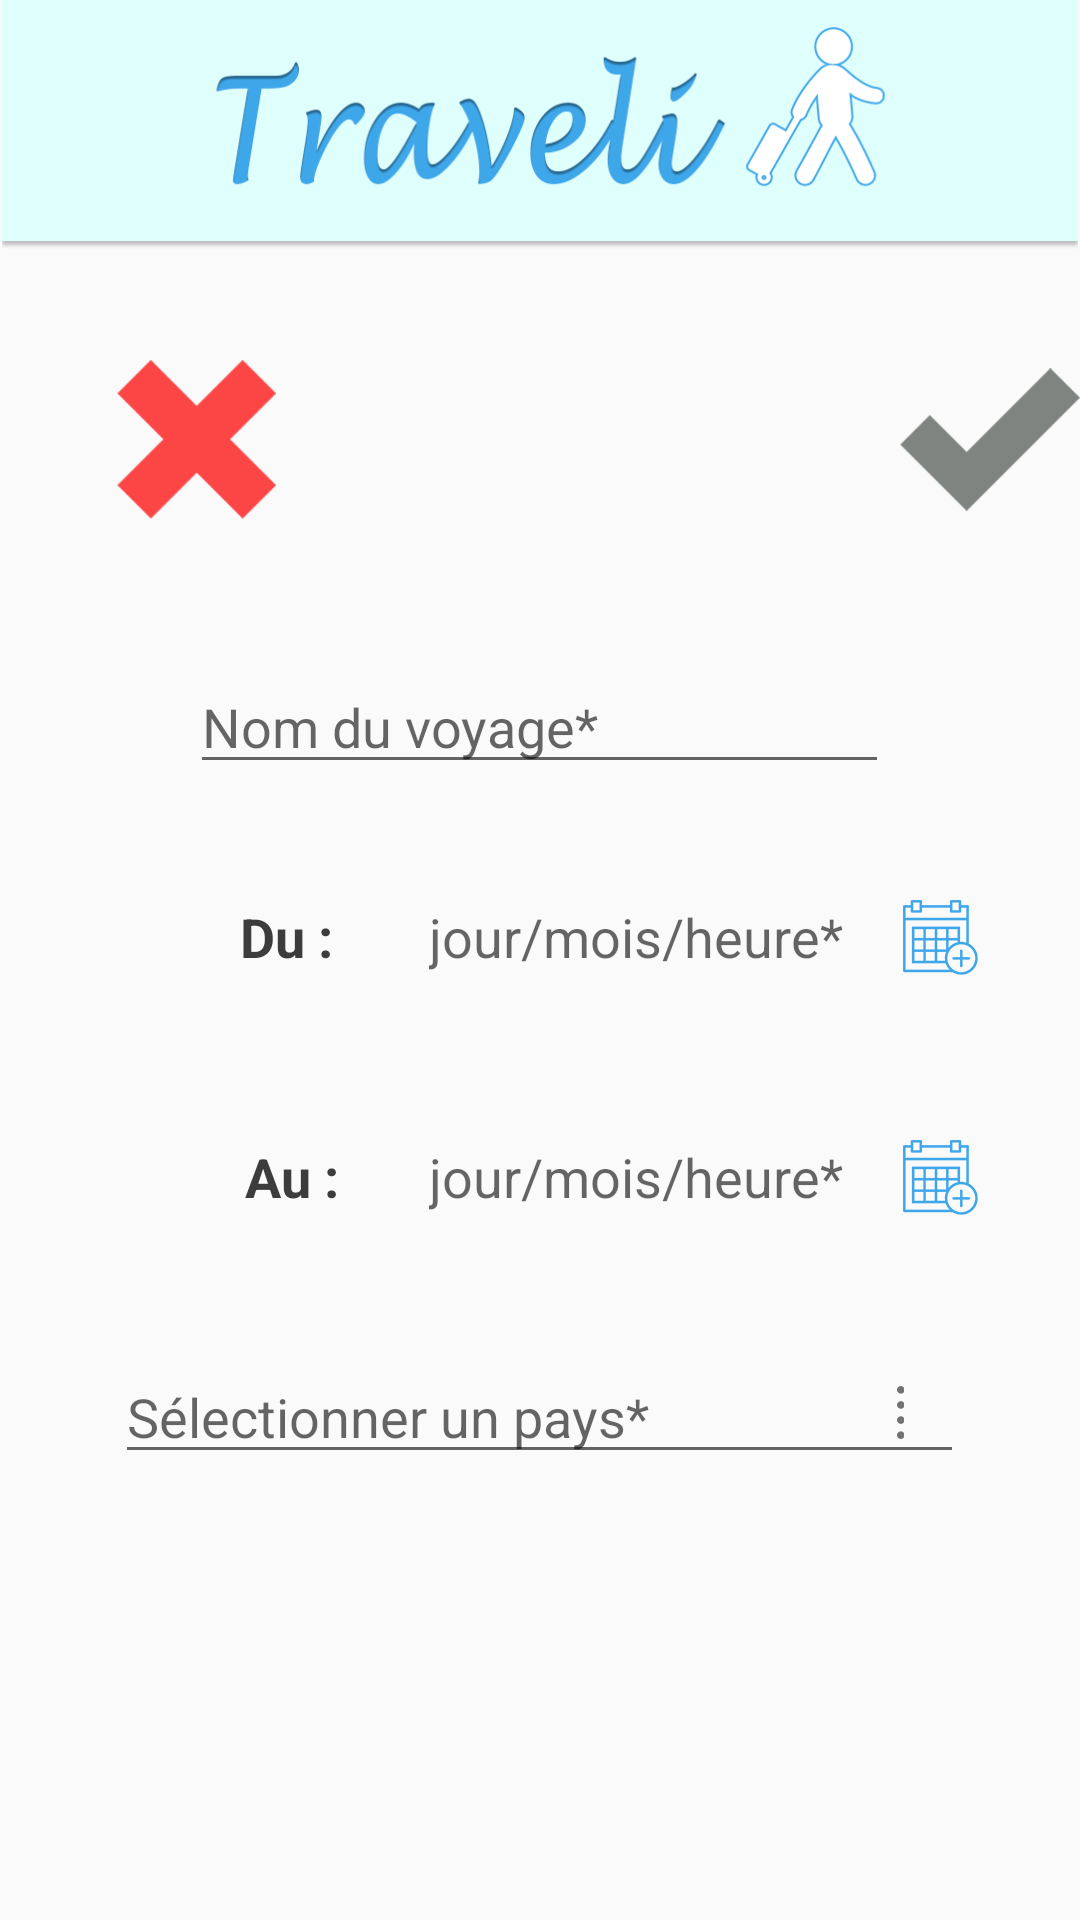

Point at icon controls on the screen. Image size 1080 x 1920, points as (x=x, y=y).
cross: (x=196, y=439)
encoche grise: (x=990, y=439)
